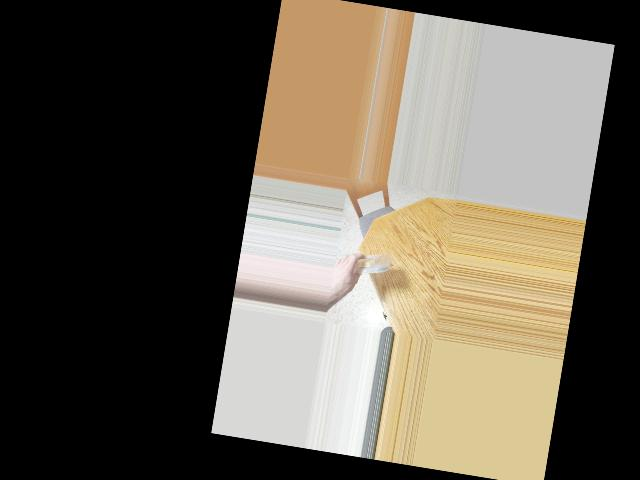cheese: (352, 249, 389, 284)
